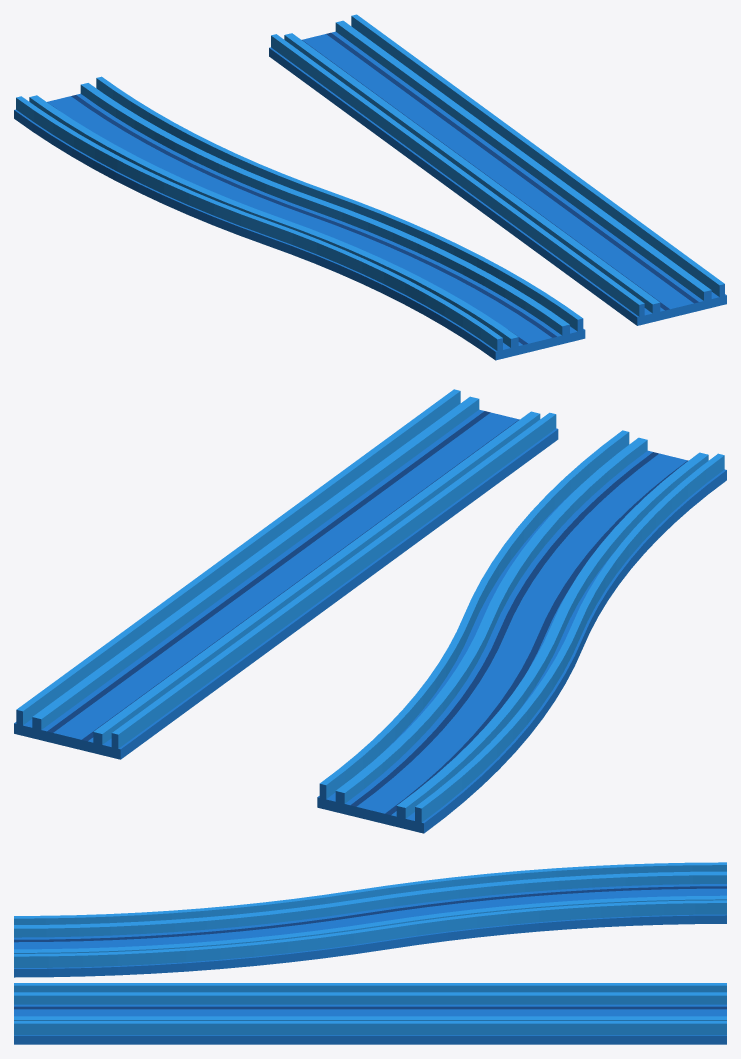
File: Track_Double_Wide_Straight.fbx
3 renders of one model, top to bottom at view 1: azimuth 30°, elevation 25°; view 2: azimuth 150°, elevation 25°; view 3: azimuth 270°, elevation 25°, orthographic. The views are drawn at different scales.
Visible parts, largest first — view 1: Bed move, Bed stay; view 2: Bed stay, Bed move; view 3: Bed move, Bed stay.
Part boxes in pixels (x1,y1,x2,y2): Bed move: (14, 76, 585, 360); Bed stay: (269, 14, 726, 325); Bed stay: (14, 389, 558, 759); Bed move: (317, 430, 726, 833); Bed move: (14, 862, 726, 977); Bed stay: (14, 983, 726, 1044).
Bounding box in the file's own units: 406 × 23.31 × 750.
